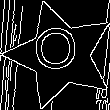O_S: (37, 30, 83, 81)
